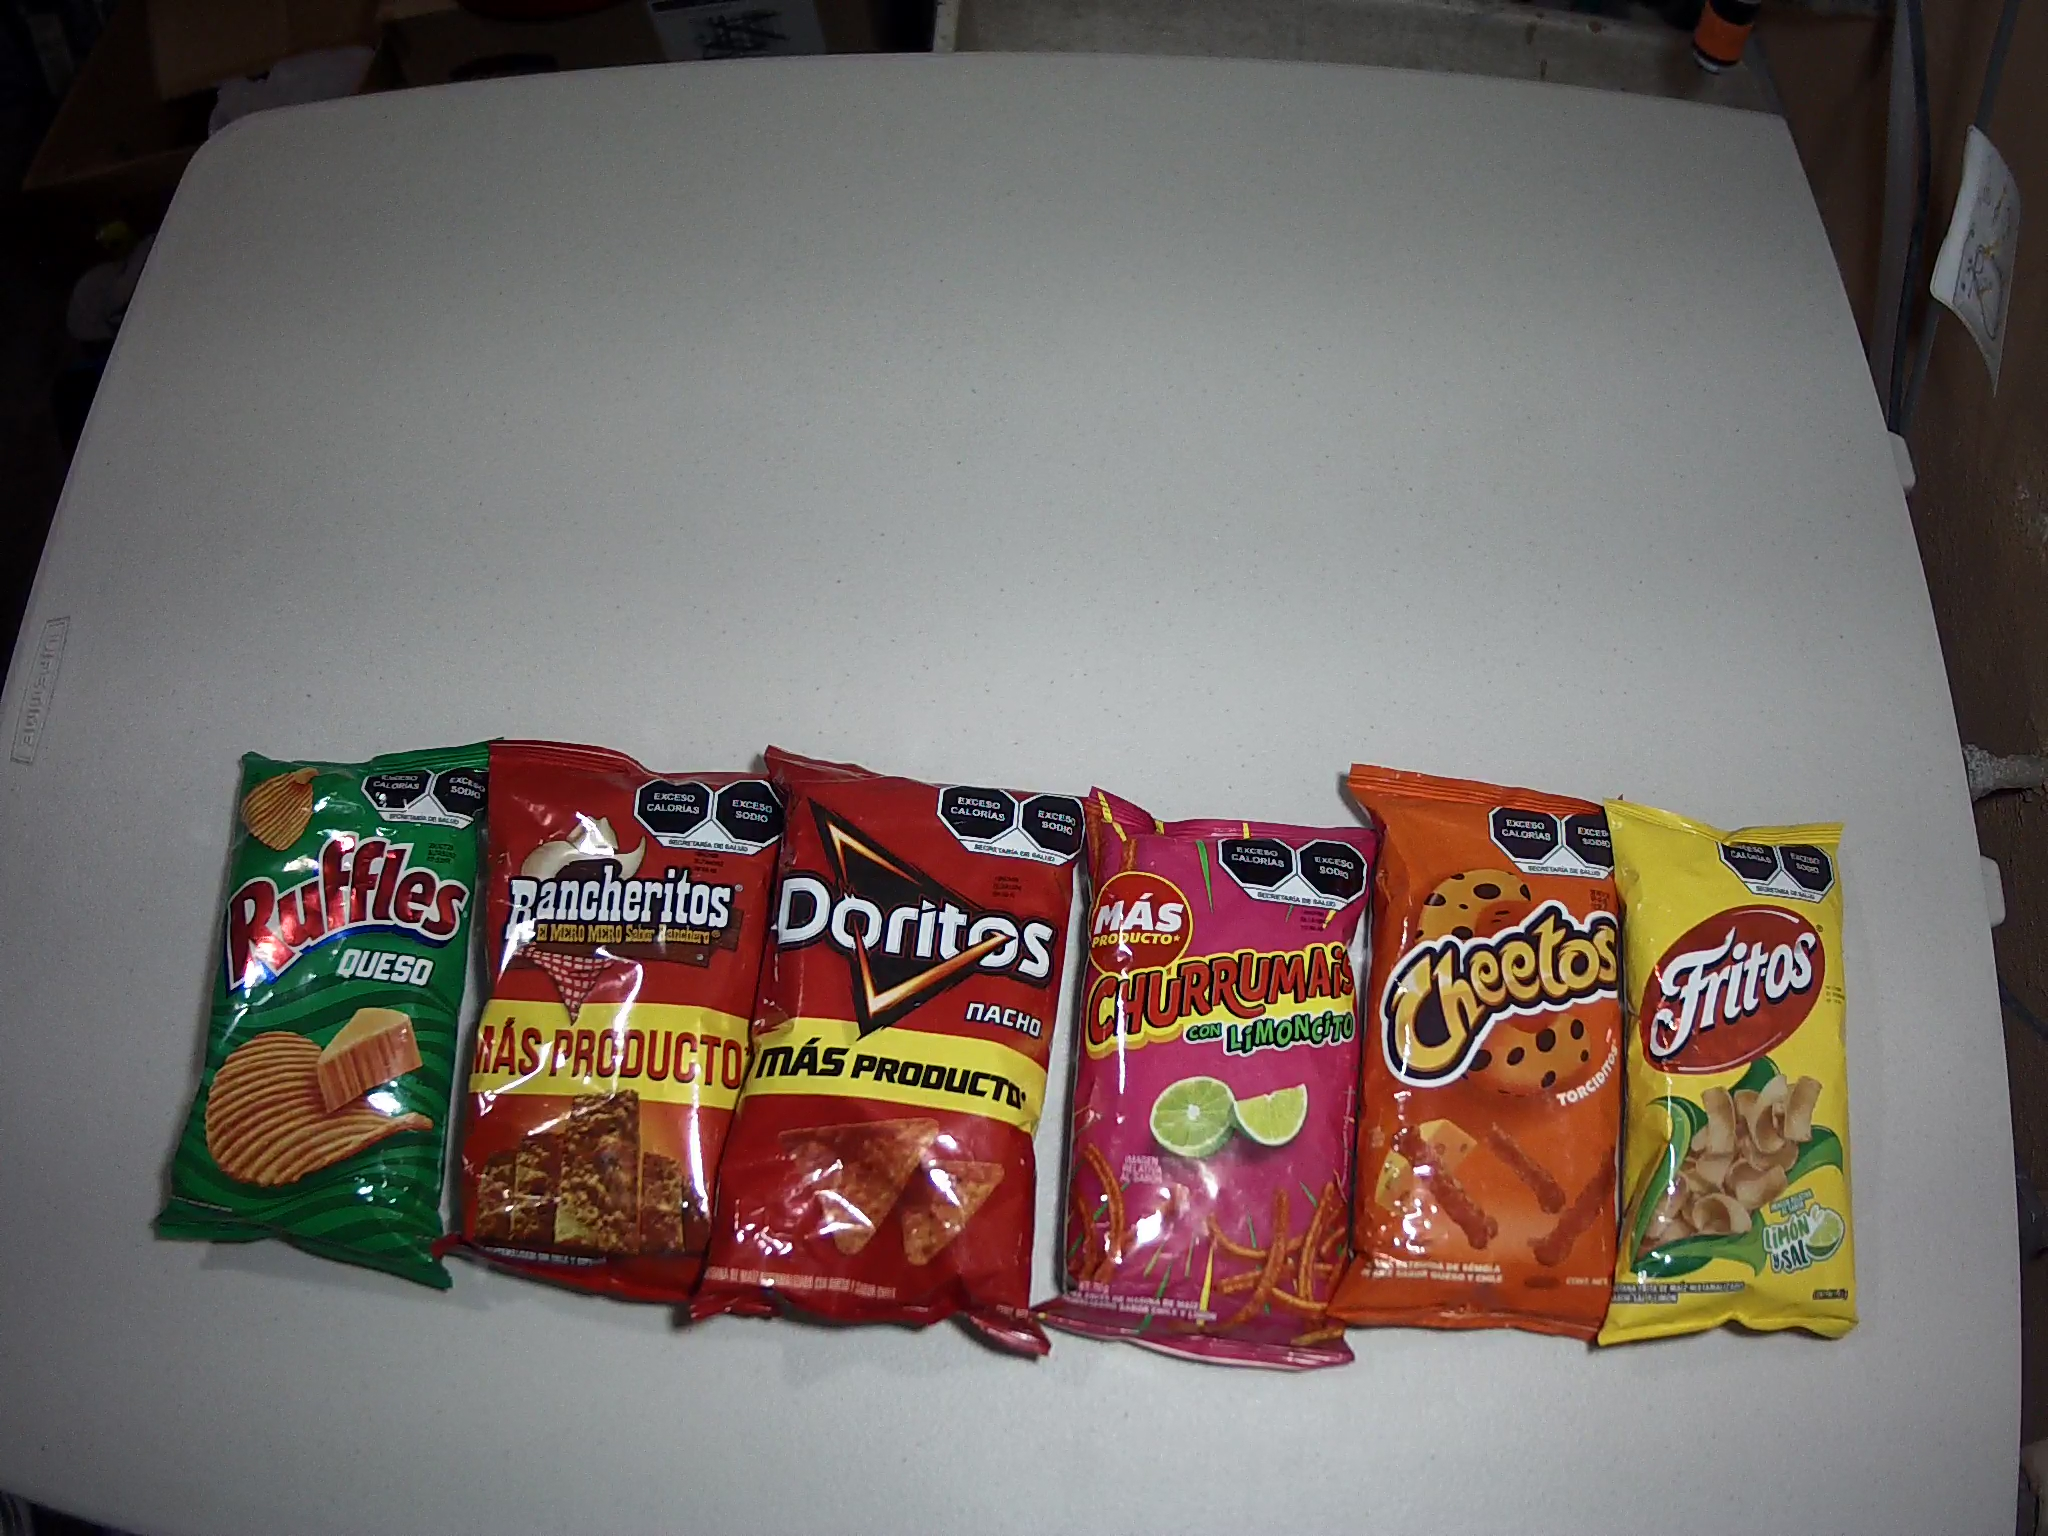CheetosTorciditos_55_F: (1342, 762, 1634, 1341)
Churrumais_70_F: (1056, 786, 1376, 1370)
DoritosN_61_F: (743, 744, 1082, 1360)
FritosSalLimon_65_F: (1600, 800, 1861, 1342)
Rancheritos_58_F: (461, 742, 771, 1307)
RufflesQ_48_F: (153, 736, 484, 1296)
